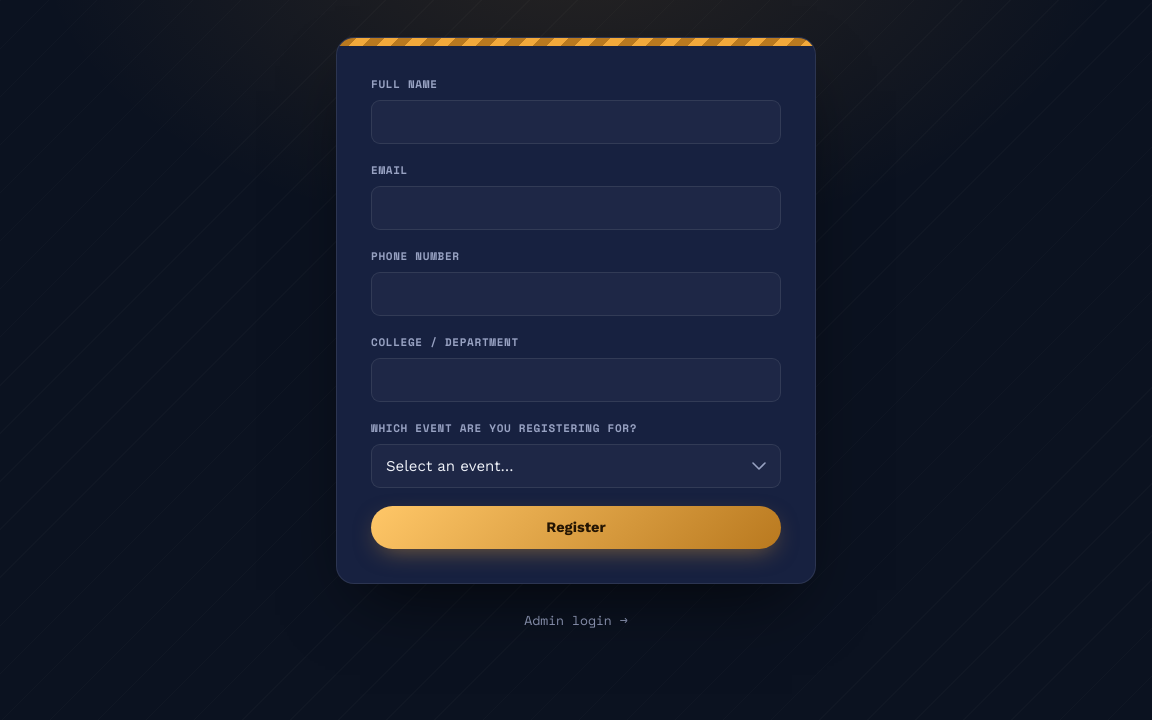
Scenario: RegistrationForm › shows validation errors and focuses the first invalid field on empty submit
(page scrolled)
Step 1. Click the button "Register" → (576, 528), box [371,506,781,549]
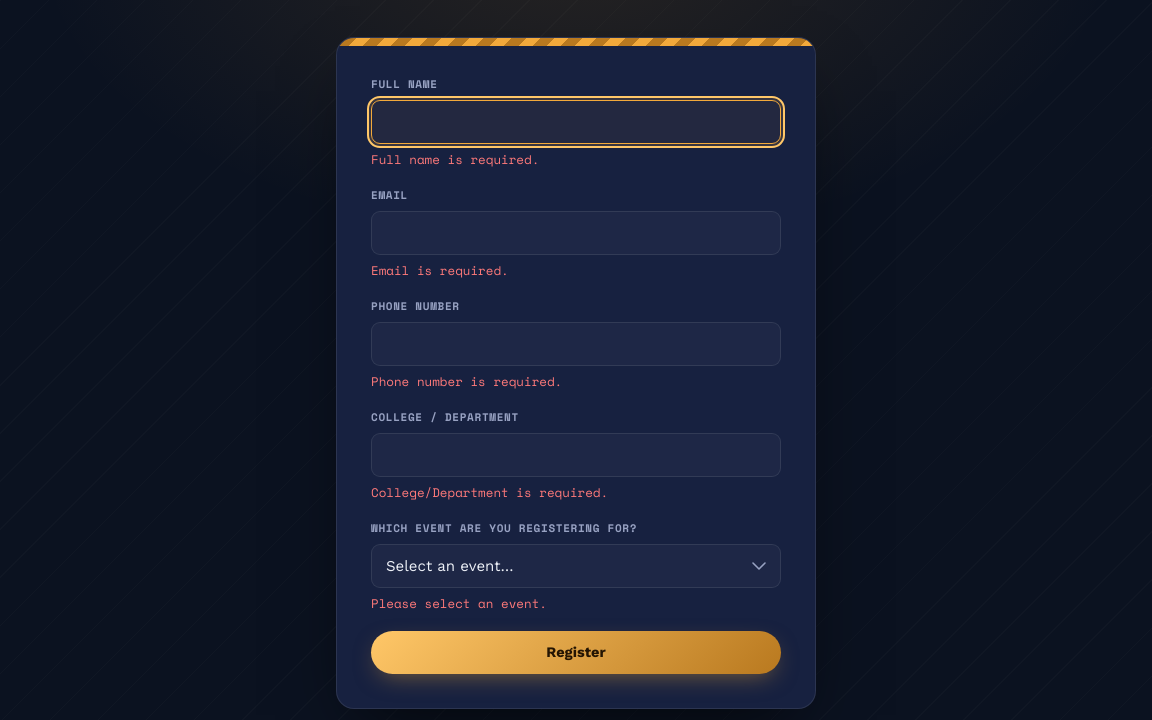
Check: the text "Full name is required." is shown, box [371,150,539,169]
Check: the text "Email is required." is shown, box [371,261,509,280]
Check: the text "Phone number is required." is shown, box [371,372,562,391]
